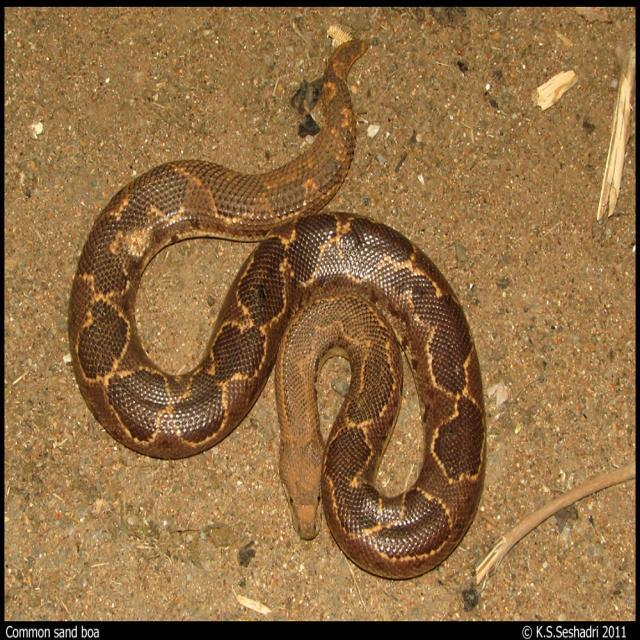Snake: (66, 22, 488, 580)
